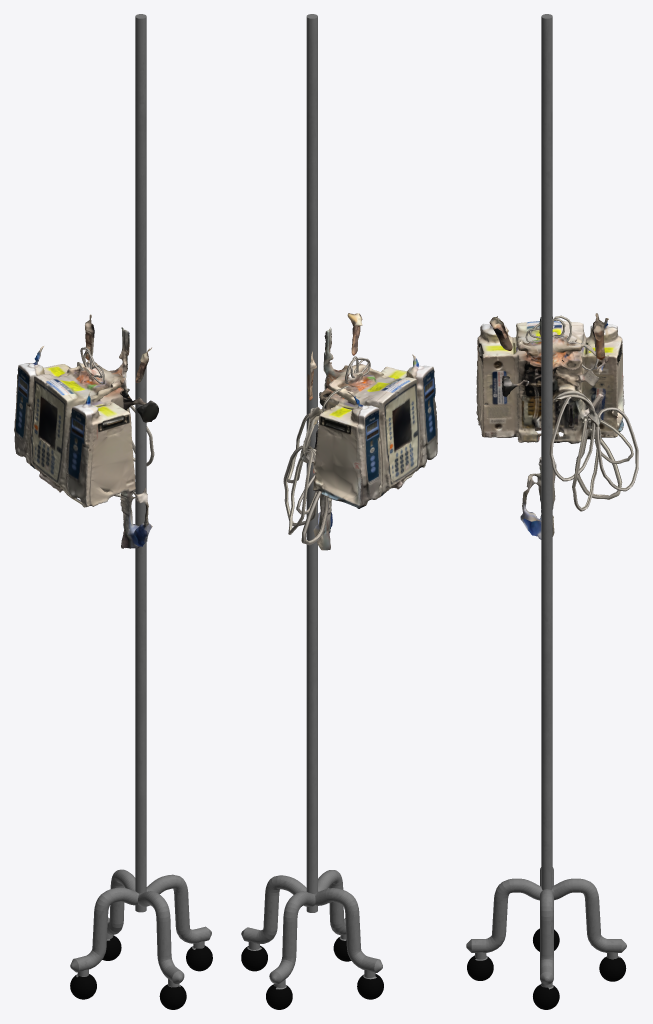
Rendered from ivdevice.fbx.
3 renders of one model, left to right at view 1: azimuth 30°, elevation 25°; view 2: azimuth 150°, elevation 25°; view 3: azimuth 270°, elevation 25°, orthographic.
Visible parts, largest first — view 1: Cylinder.003; view 2: Cylinder.003; view 3: Cylinder.003.
Boxes of the visible parts, bbox=[...] form: Cylinder.003: bbox=[14, 14, 212, 1009]; Cylinder.003: bbox=[241, 14, 437, 1009]; Cylinder.003: bbox=[466, 14, 638, 1009].
Size of the model in its own units: 40.73 by 226 by 36.62.
